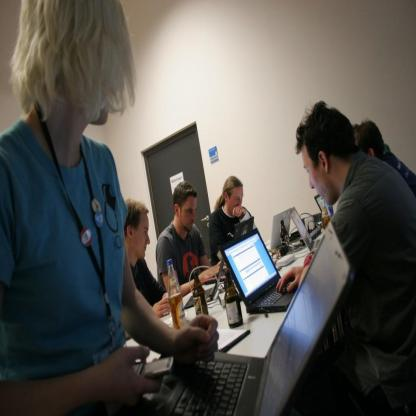board: (158, 220, 354, 416), (224, 224, 284, 322), (182, 257, 223, 311), (287, 206, 322, 255), (166, 258, 187, 332), (266, 206, 292, 251), (225, 270, 244, 328), (194, 266, 209, 317), (314, 193, 330, 216), (280, 219, 290, 249)
